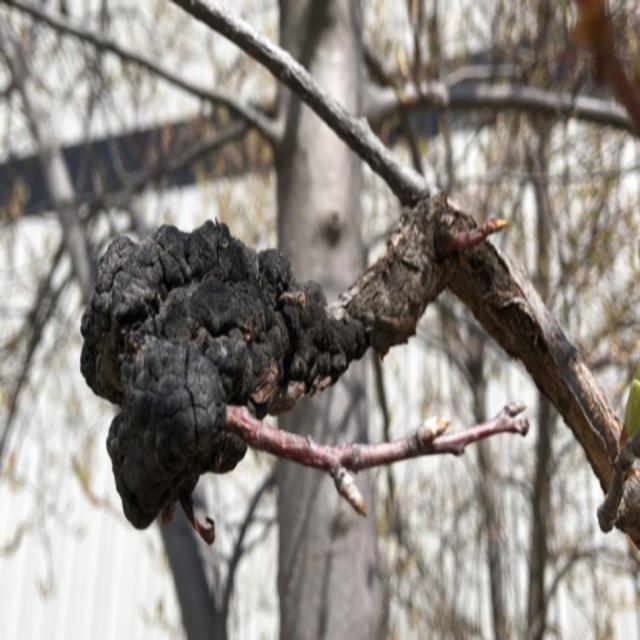Black_knot: (78, 214, 362, 541)
